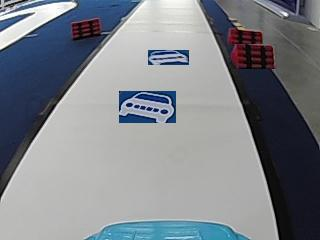bomb: (71, 16, 101, 38)
